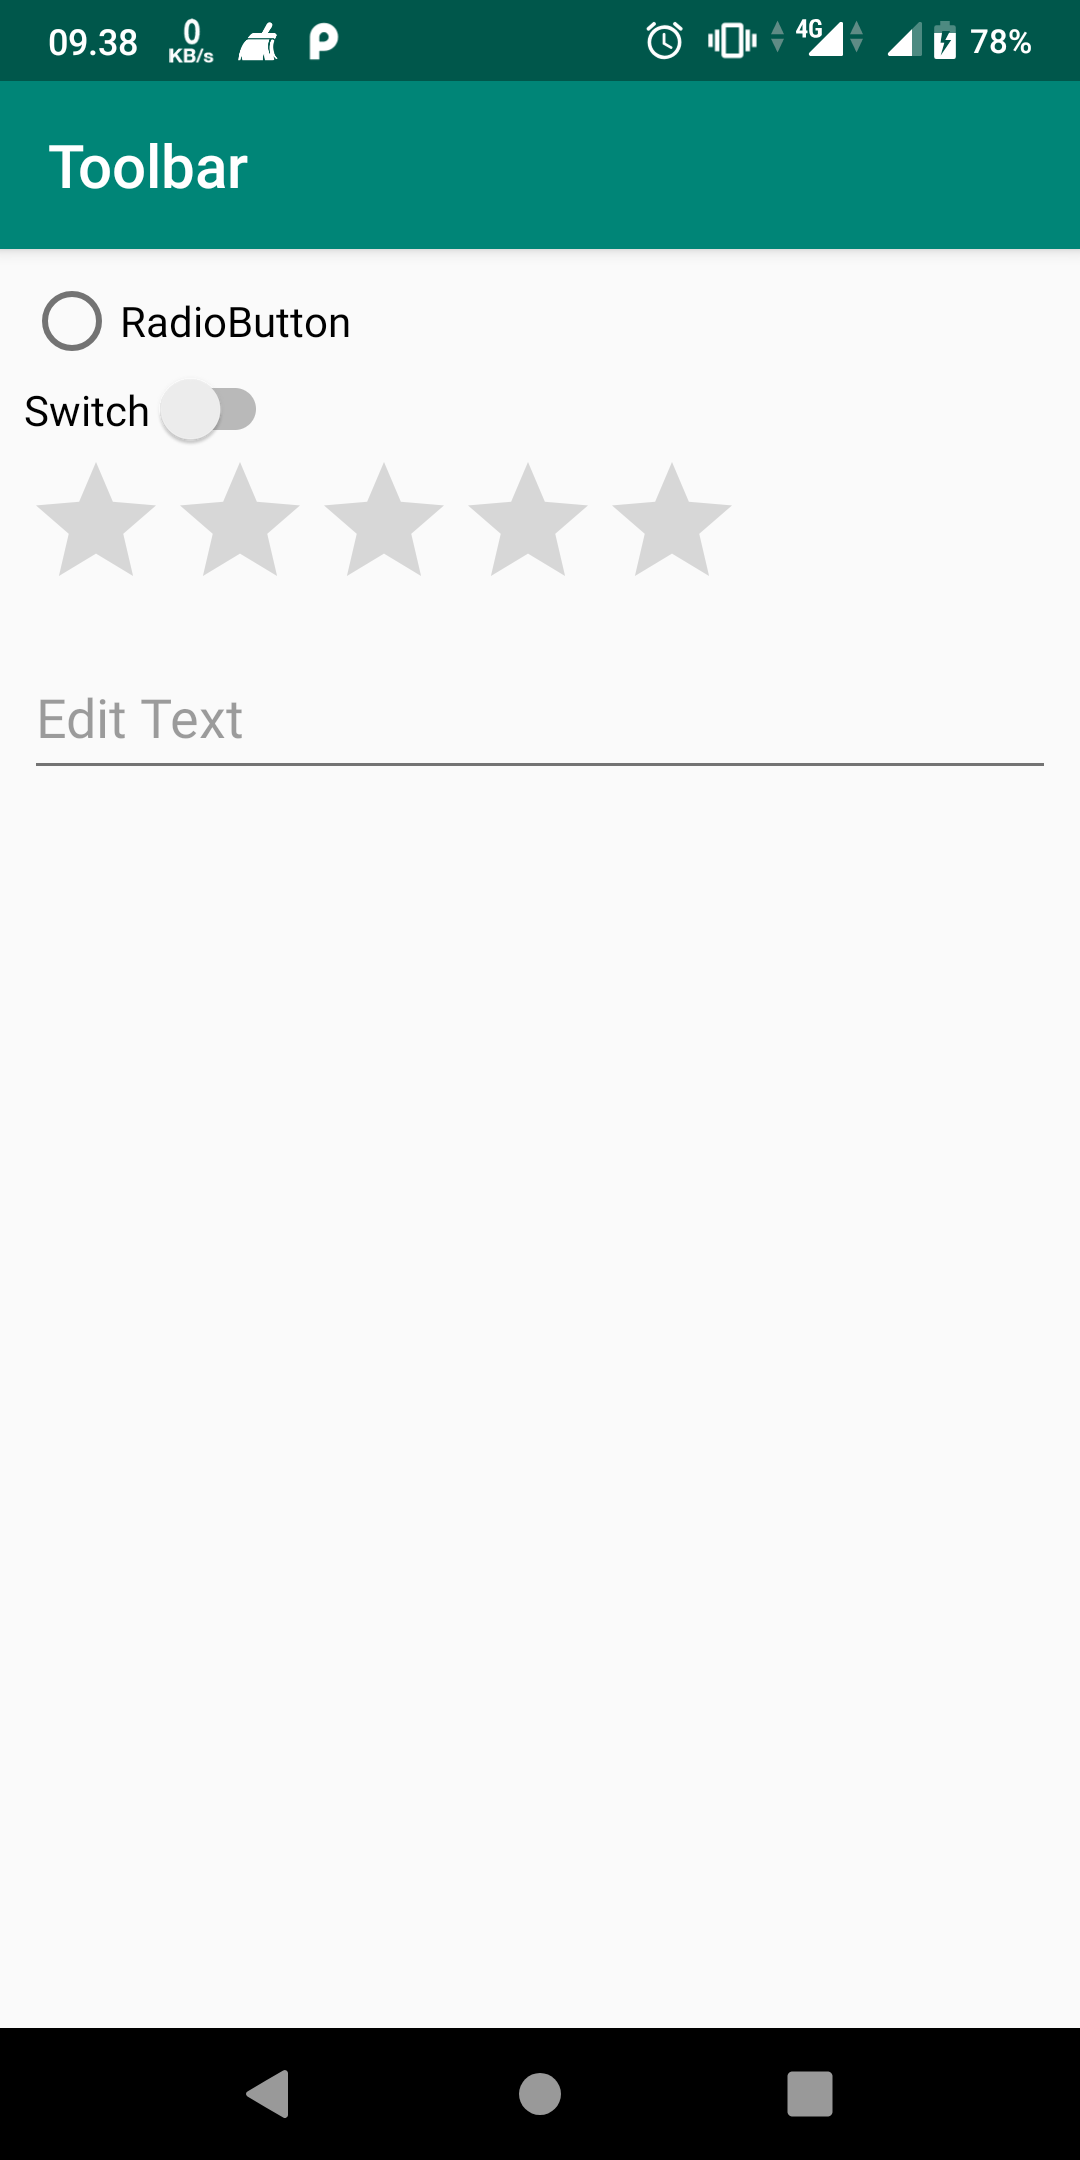editText: (19, 683, 1061, 787)
radioButton: (32, 287, 357, 354)
ratingBar: (25, 461, 748, 583)
switch: (12, 380, 280, 441)
toolbar: (3, 83, 1079, 247)
